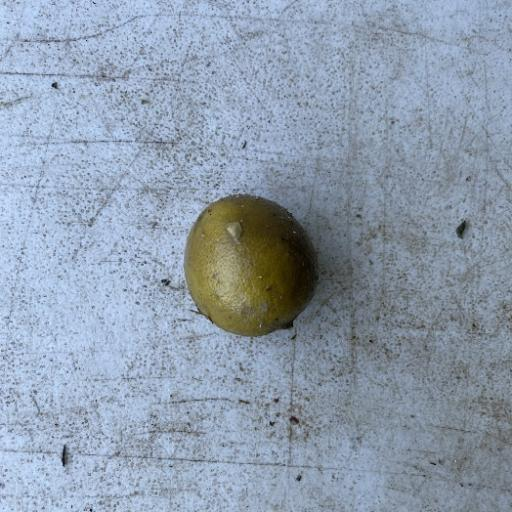Waste: (182, 193, 320, 338)
